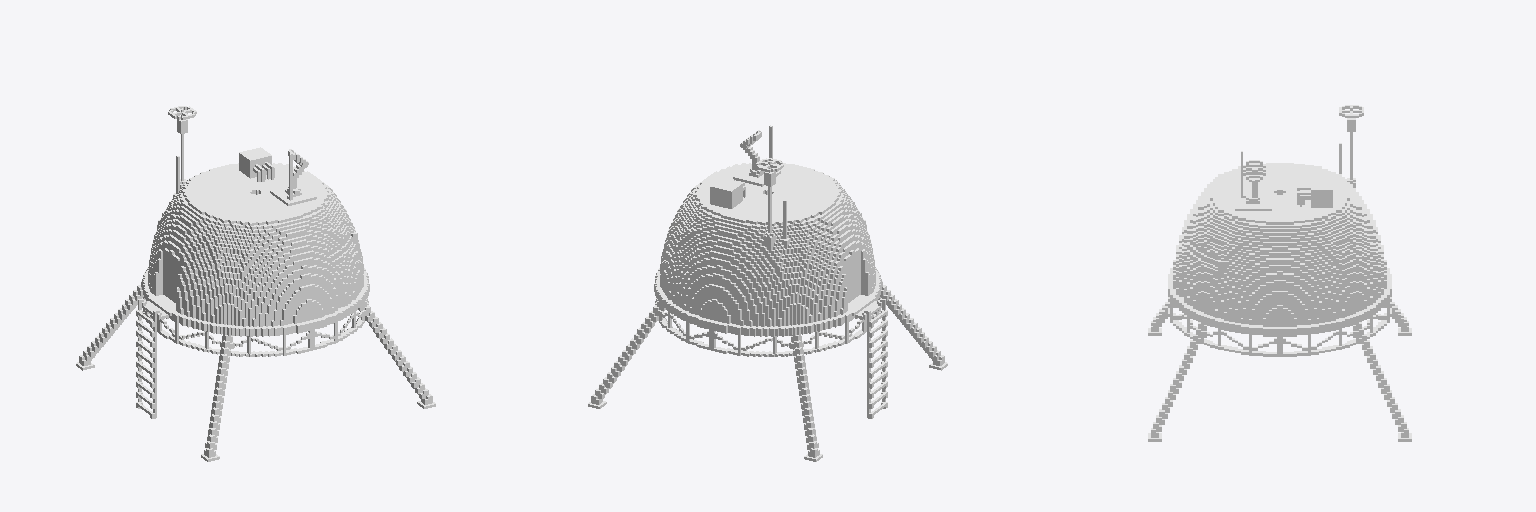
Rendered from station.obj.
The picture shows the model from 3 angles: view 1: azimuth 30°, elevation 25°; view 2: azimuth 150°, elevation 25°; view 3: azimuth 270°, elevation 25°; orthographic projection.
Visible parts, largest first — view 1: object 1; view 2: object 1; view 3: object 1.
Boxes of the visible parts, x1,y1,x2,y2 form: object 1: [76, 106, 435, 461]; object 1: [588, 125, 947, 461]; object 1: [1148, 105, 1411, 441].
Size of the model in its own units: 9.4 by 10.2 by 9.4.